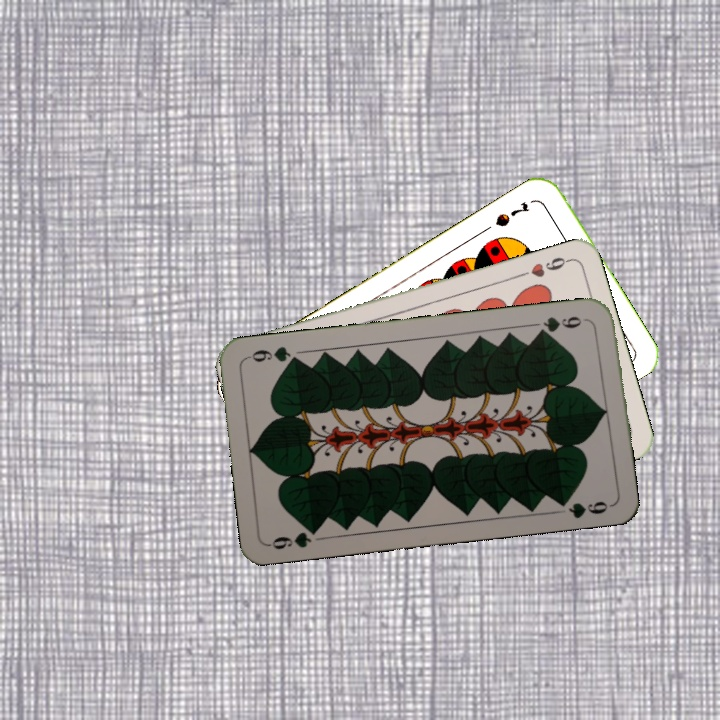G9: (265, 522, 323, 552), (533, 312, 591, 338)
H9: (516, 253, 574, 280)
S7: (491, 198, 532, 230)
